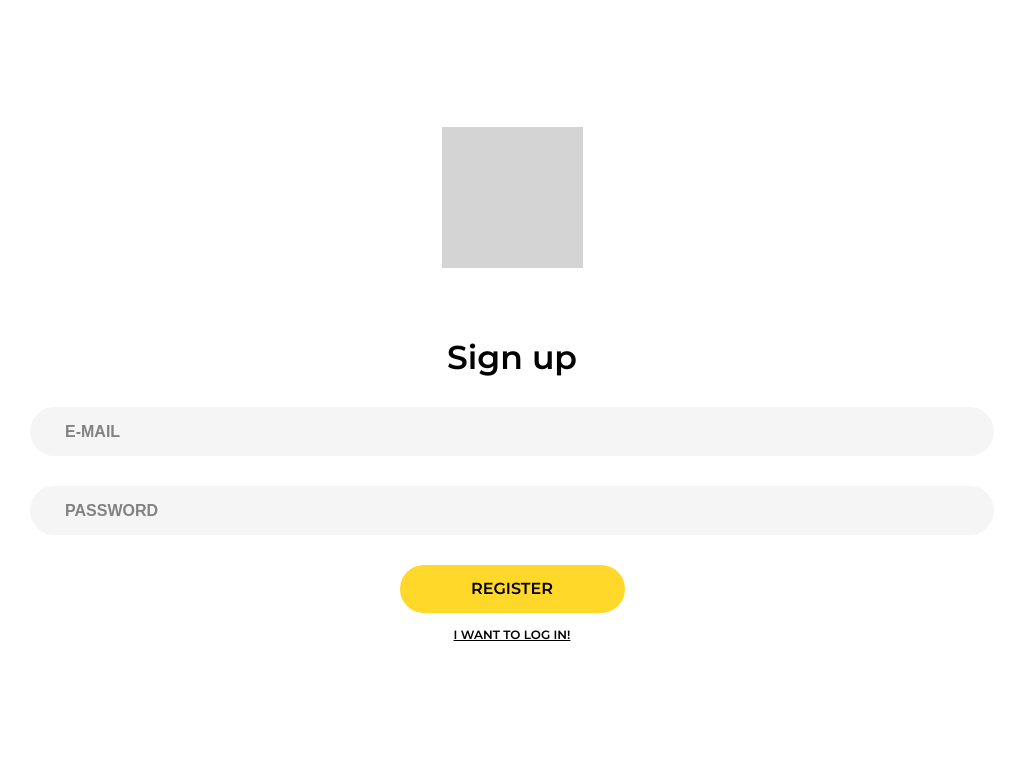
Test: <RegisterPage /> › the email field should be invalid and have an error message from the server when a registered user tries to log in
In the field with placeholder "E-mail": x=512, y=432 [30, 407, 994, 456], type "valid.example@email.com"
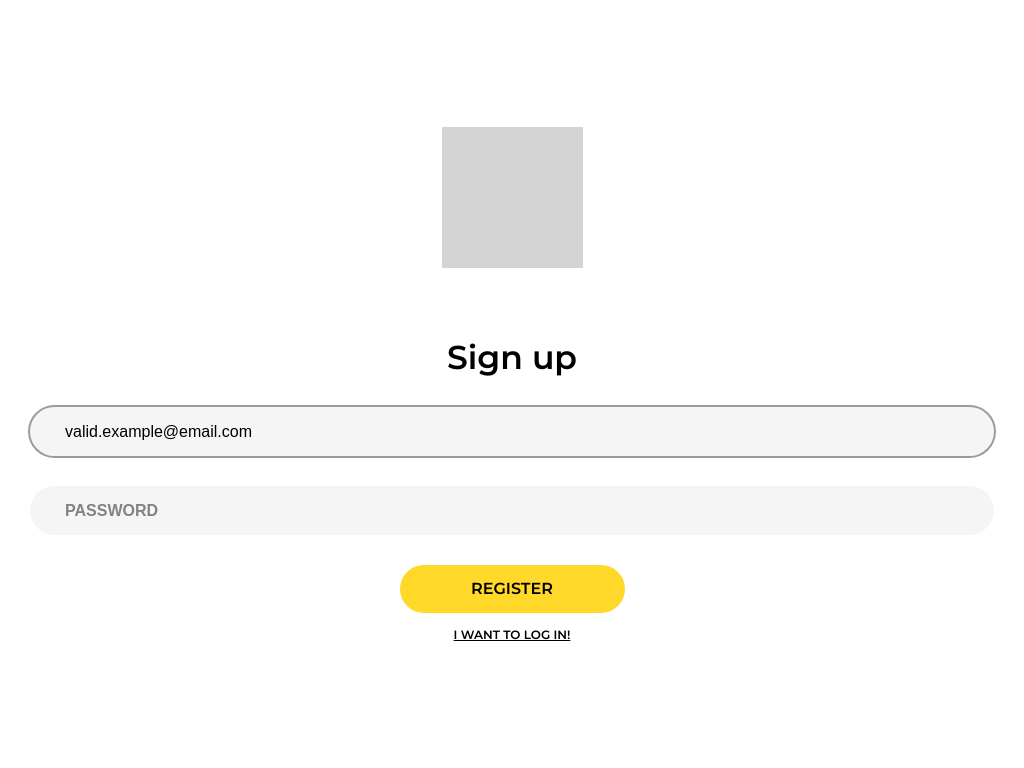
In the password field with placeholder "Password": x=512, y=511 [30, 486, 994, 535], type "password"
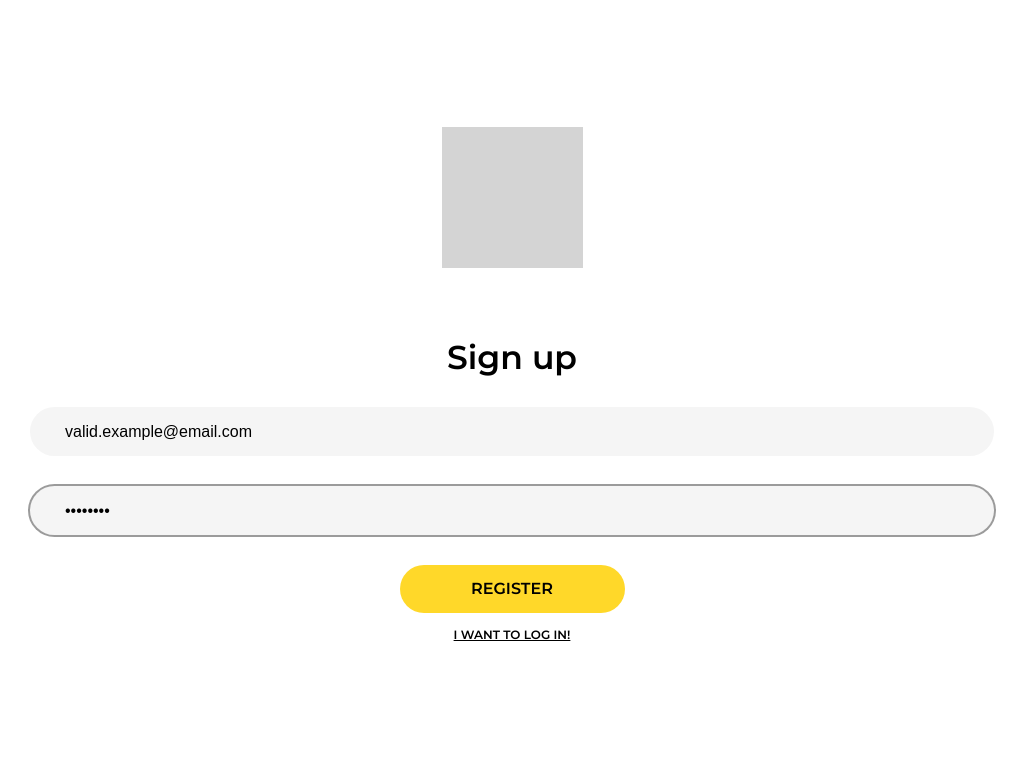
// submit form
Click the button "register": x=512, y=589 [400, 565, 624, 613]
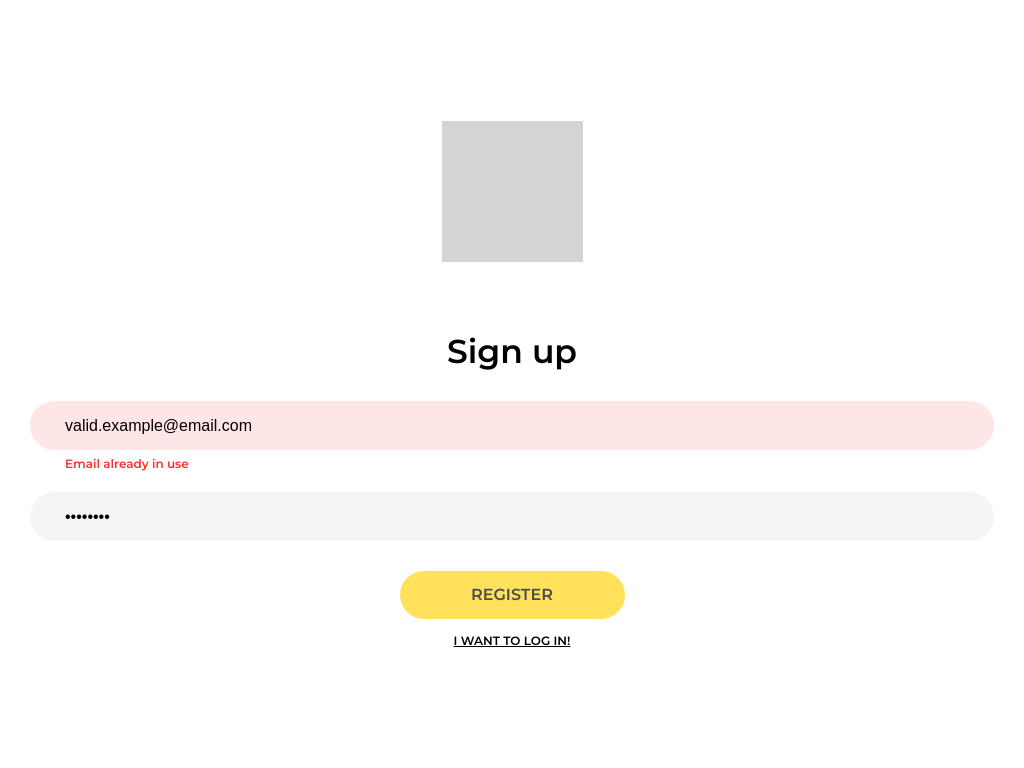
Expected: the button "register" is disabled, [400, 571, 624, 619]
